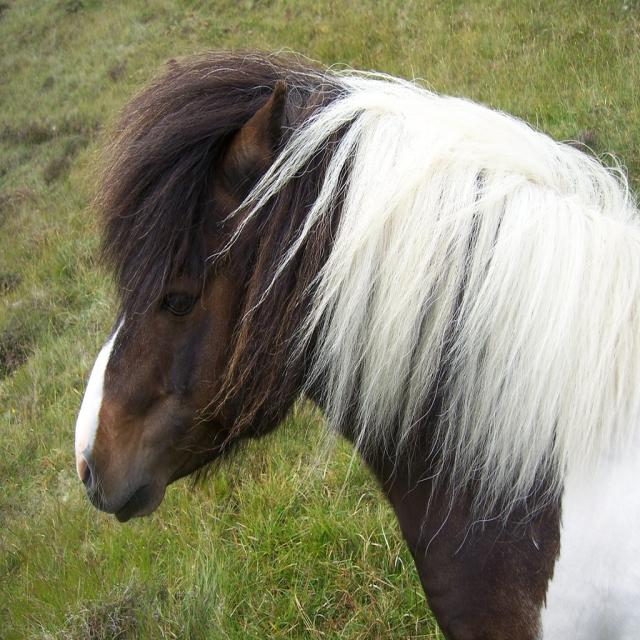Horse: (59, 46, 640, 640)
